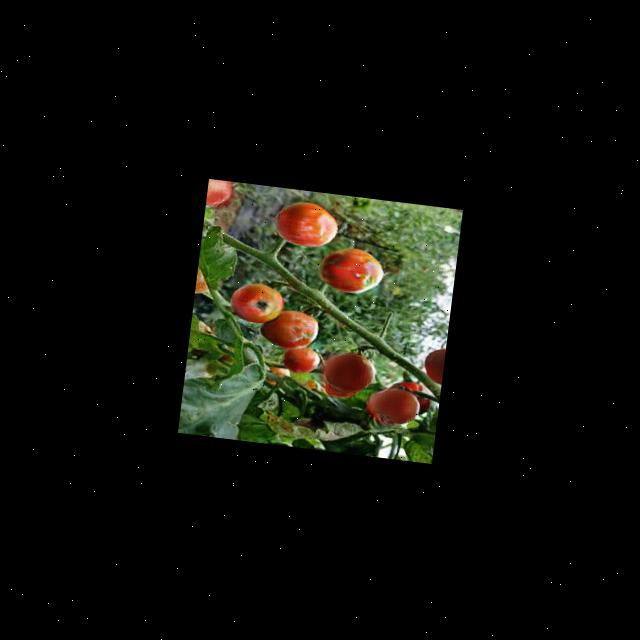tomato: (317, 243, 388, 295), (272, 198, 340, 247), (226, 279, 284, 325), (262, 306, 320, 351)
